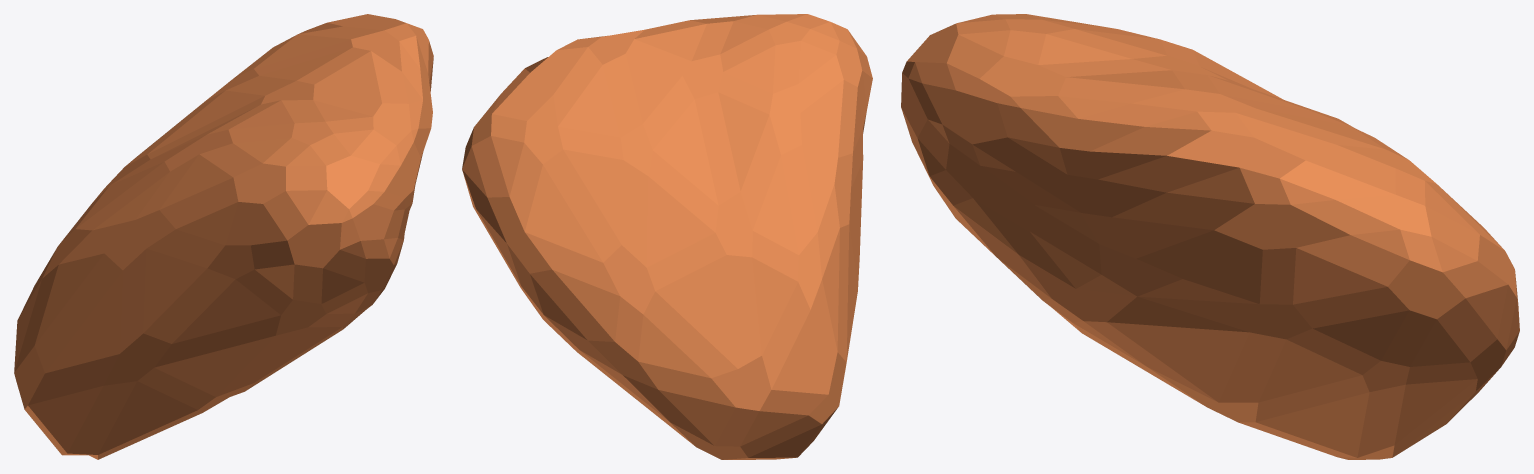
File: Desert_Rock2.fbx
3 renders of one model, left to right at view 1: azimuth 30°, elevation 25°; view 2: azimuth 150°, elevation 25°; view 3: azimuth 270°, elevation 25°, orthographic. The views are drawn at different scales.
Visible parts, largest first — view 1: Icosphere.002; view 2: Icosphere.002; view 3: Icosphere.002.
Boxes of the visible parts, box(x1,y1,x2,y2) form: Icosphere.002: box(14, 14, 433, 459); Icosphere.002: box(462, 14, 872, 459); Icosphere.002: box(901, 14, 1519, 459).
Size of the model in its own units: 162 by 152 by 176.
